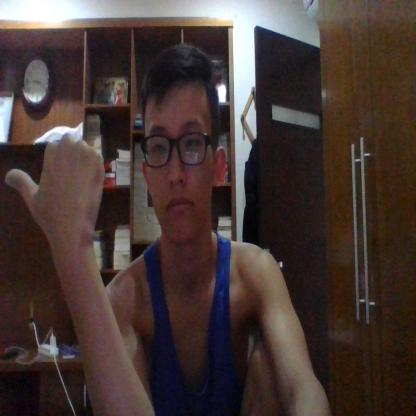right: (5, 131, 107, 253)
